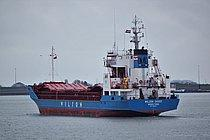Ship: (25, 10, 184, 120)
